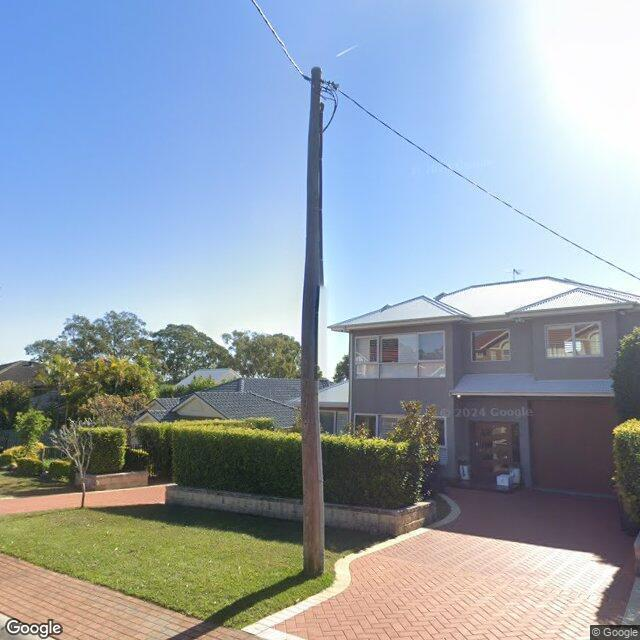timber-pole: (300, 65, 326, 578)
